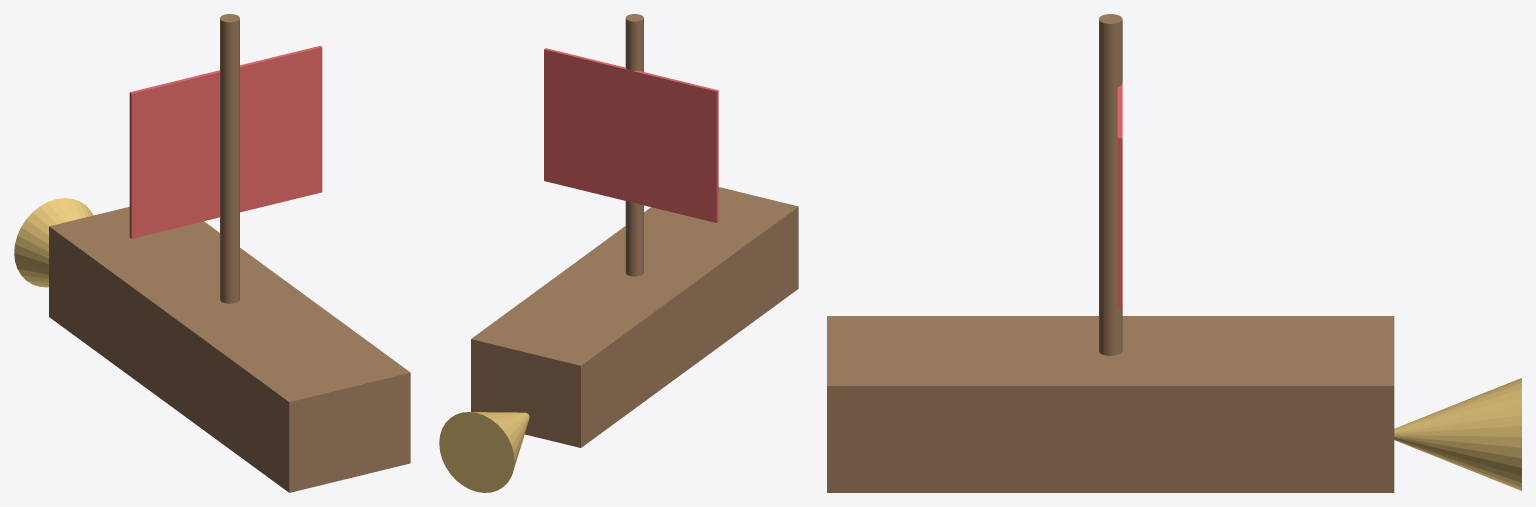
The model's file is roman_trireme.glb.
3 views of the same model, side by side, from view 1: azimuth 30°, elevation 25°; view 2: azimuth 150°, elevation 25°; view 3: azimuth 270°, elevation 25° (orthographic). The views are drawn at different scales.
Parts seen in each view (by area): view 1: RomanTrireme; view 2: RomanTrireme; view 3: RomanTrireme.
Part boxes in pixels (<box>): RomanTrireme: <box>14,14,410,492</box>; RomanTrireme: <box>439,14,798,492</box>; RomanTrireme: <box>827,14,1521,492</box>.
Bounding box in the file's own units: 5.5 × 10.9 × 14.7.
